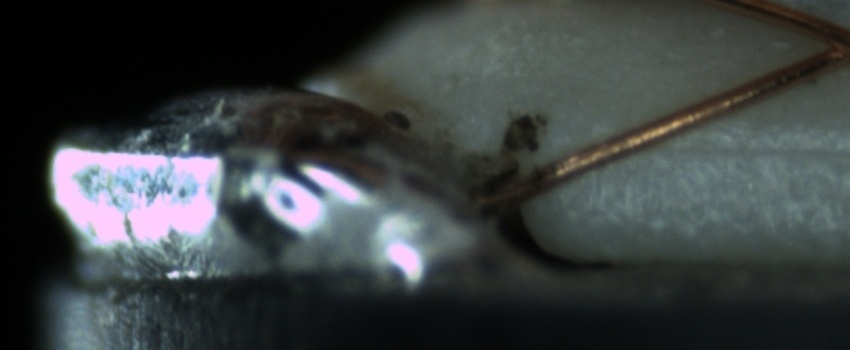CL: (798, 14, 850, 73)
DL: (632, 113, 850, 184)
